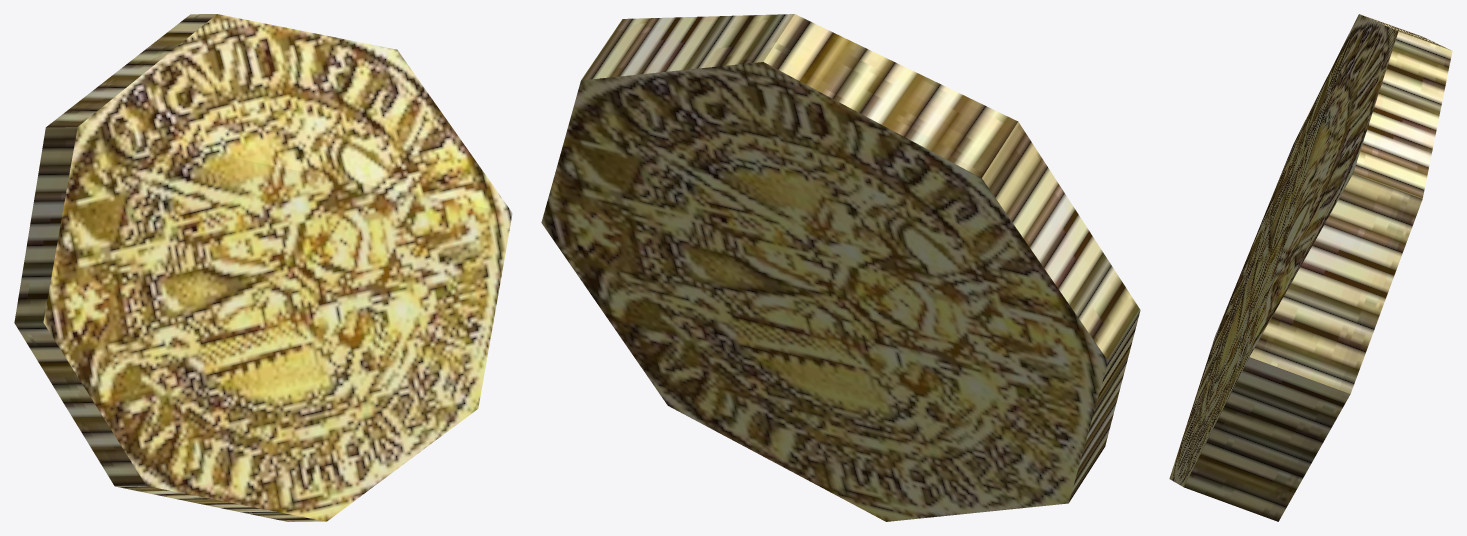
Rendered from ITMI_GOLD.glb.
3 renders of one model, left to right at view 1: azimuth 30°, elevation 25°; view 2: azimuth 150°, elevation 25°; view 3: azimuth 270°, elevation 25°, orthographic. The views are drawn at different scales.
Parts seen in each view (by area): view 1: ITMI_GOLD; view 2: ITMI_GOLD; view 3: ITMI_GOLD.
Boxes of the visible parts, box(x1,y1,x2,y2) form: ITMI_GOLD: box(14, 14, 512, 521); ITMI_GOLD: box(541, 14, 1140, 521); ITMI_GOLD: box(1169, 14, 1452, 521).
Bounding box in the file's own units: 0.1 × 0.0967 × 0.0521.
1 material, 1 textured.
